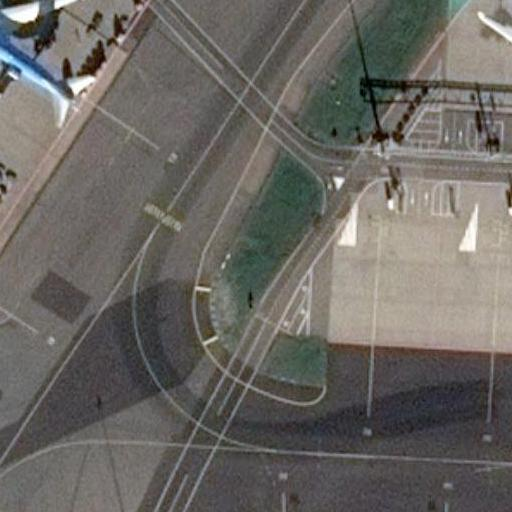Aircraft: (0, 0, 97, 134), (475, 0, 512, 122)
